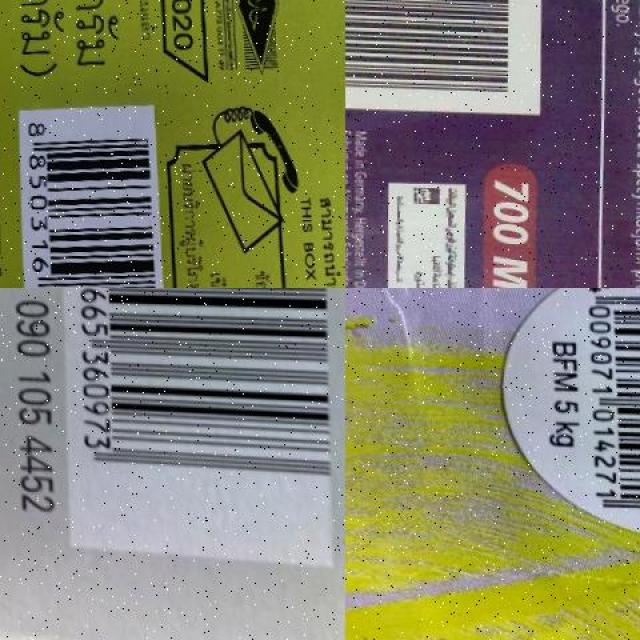Barcode: (54, 288, 334, 564), (19, 111, 160, 288), (345, 0, 547, 111), (577, 288, 640, 519)
